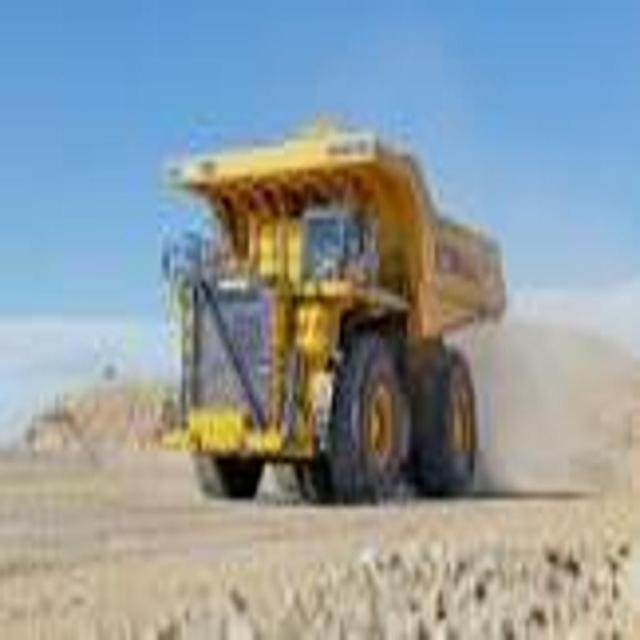dump_truck: (164, 90, 509, 511)
